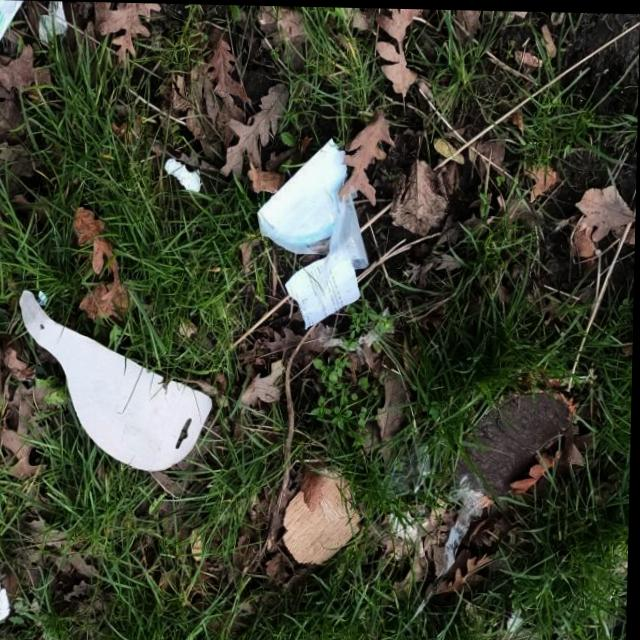Paper: (258, 134, 356, 254), (284, 243, 363, 331), (0, 0, 27, 99), (164, 156, 205, 193), (0, 552, 15, 630)
